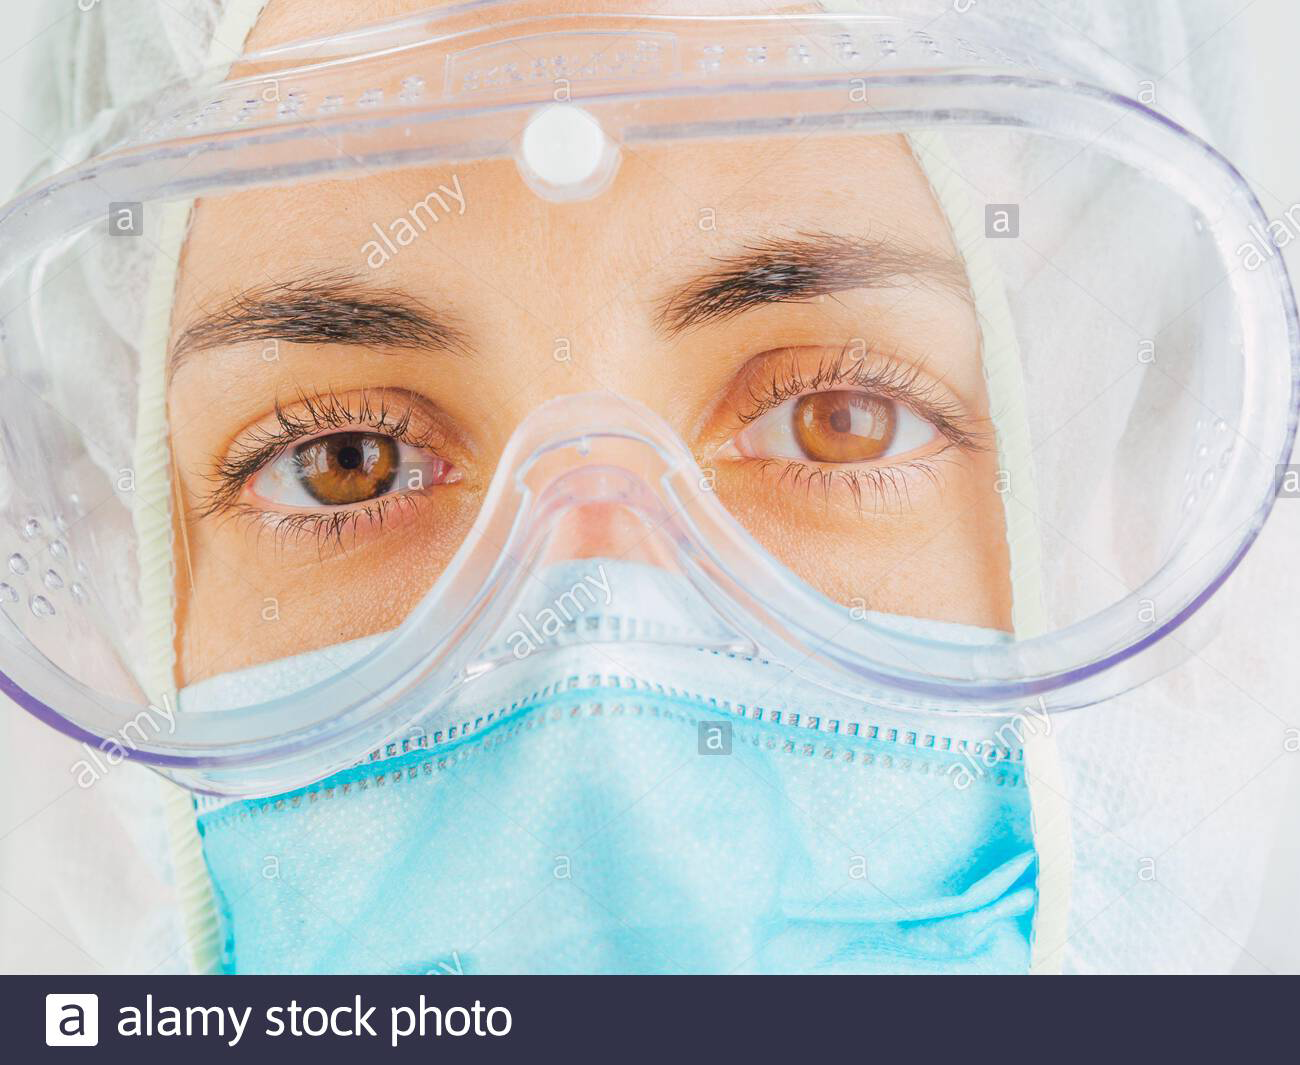Goggles: (1, 13, 1297, 793)
with_mask: (161, 561, 1044, 975)
